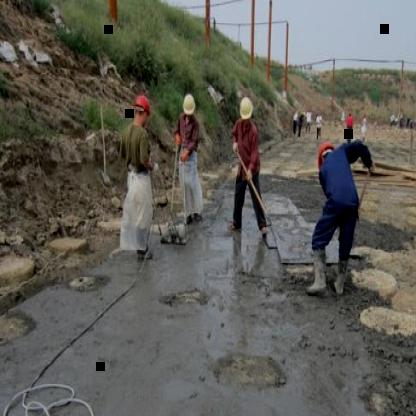helmet: (235, 90, 257, 122), (132, 88, 154, 120), (179, 88, 200, 120)
